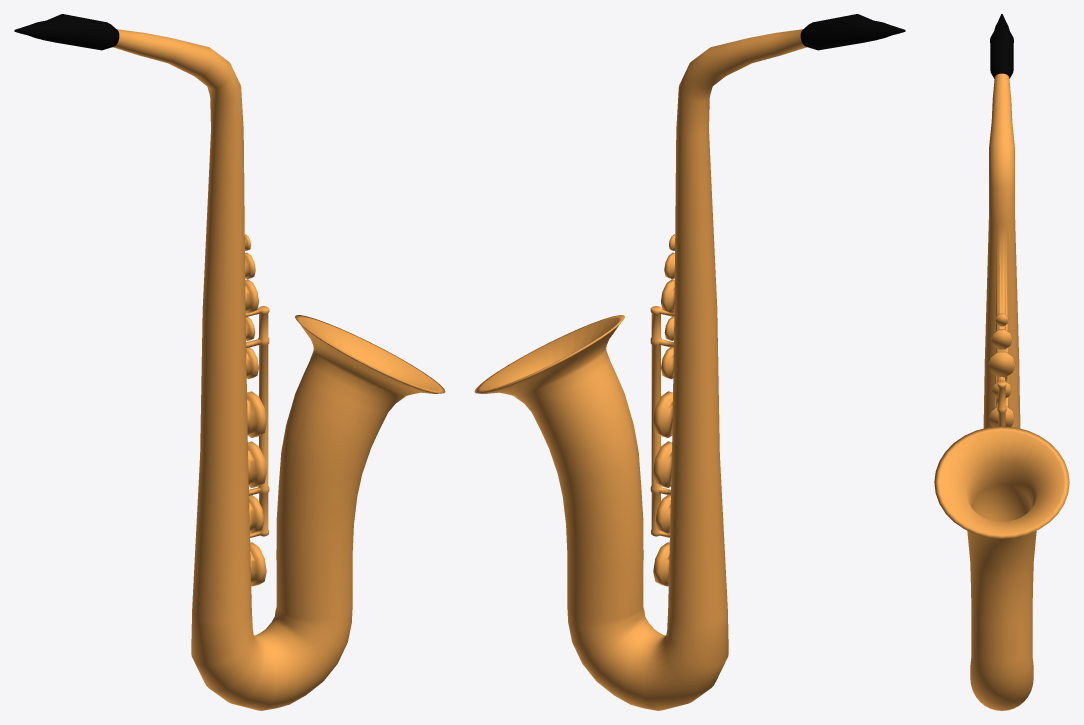
Rendered from Saxophone.fbx.
The picture shows the model from 3 angles, left to right: view 1: azimuth 30°, elevation 25°; view 2: azimuth 150°, elevation 25°; view 3: azimuth 270°, elevation 25°; orthographic projection. The views are drawn at different scales.
Visible parts, largest first — view 1: Cylinder; view 2: Cylinder; view 3: Cylinder.
Boxes of the visible parts, x1=… form: Cylinder: x1=14, y1=14, x2=445, y2=710; Cylinder: x1=474, y1=14, x2=905, y2=710; Cylinder: x1=934, y1=14, x2=1069, y2=710.
Size of the model in its own units: 264 by 447 by 92.28.
Materials: 1 (1 with a texture image).
